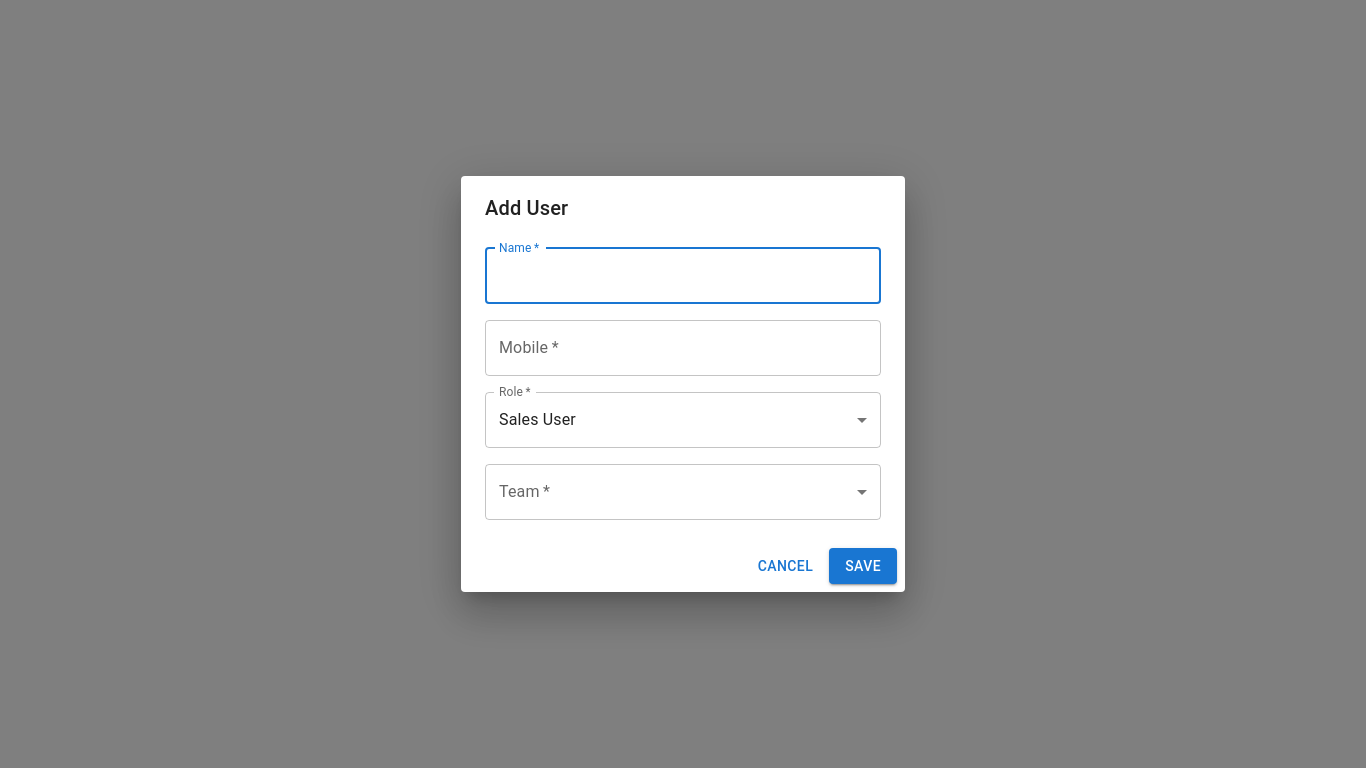
UserFormDialog › never renders Administrator as a Role option
Click the dropdown named "role": (537, 420) [499,410,576,429]
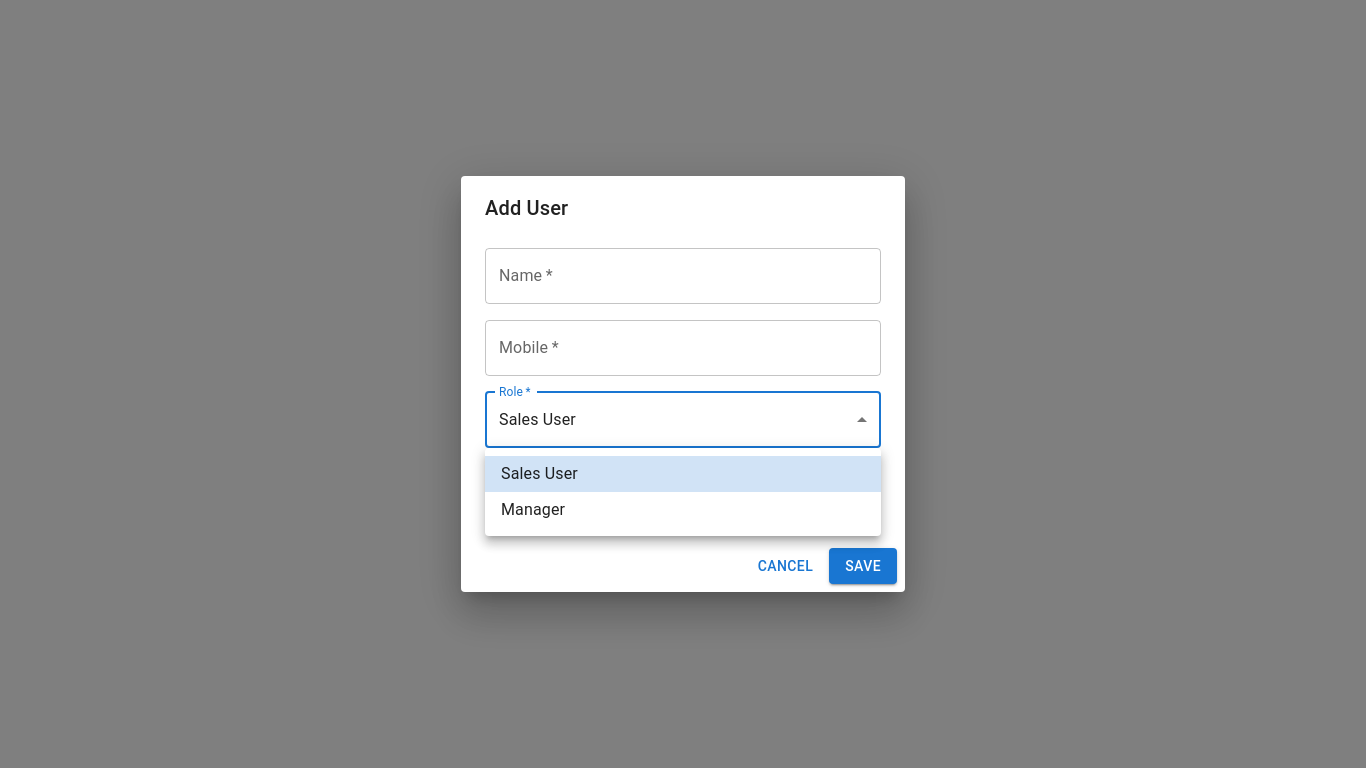
Expected: the options read "Sales User", "Manager", in this order, [485,456,881,492]; [501,500,565,519]
